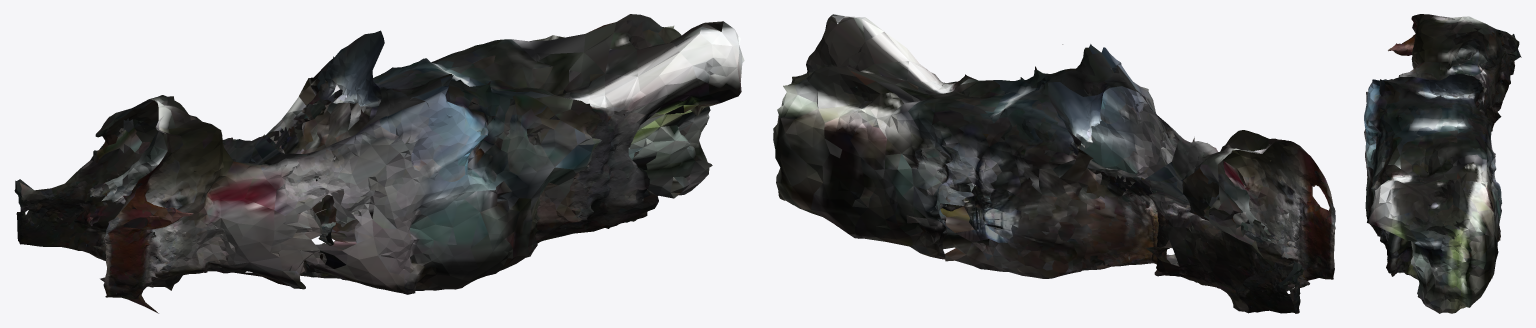
The model's file is BEH4HallwayBE.compressed.glb.
3 renders of one model, left to right at view 1: azimuth 30°, elevation 25°; view 2: azimuth 150°, elevation 25°; view 3: azimuth 270°, elevation 25°, orthographic. The views are drawn at different scales.
Parts seen in each view (by area): view 1: texturedMesh; view 2: texturedMesh; view 3: texturedMesh.
Boxes of the visible parts, left/top/right/bottom form: texturedMesh: left=14, top=14, right=744, bottom=313; texturedMesh: left=773, top=14, right=1335, bottom=313; texturedMesh: left=1364, top=14, right=1521, bottom=313.
Size of the model in its own units: 4.05 by 1.3 by 1.3.
1 material, 1 textured.
